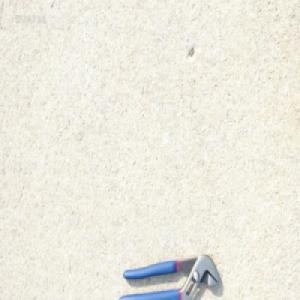Pliers: (119, 252, 220, 298)
